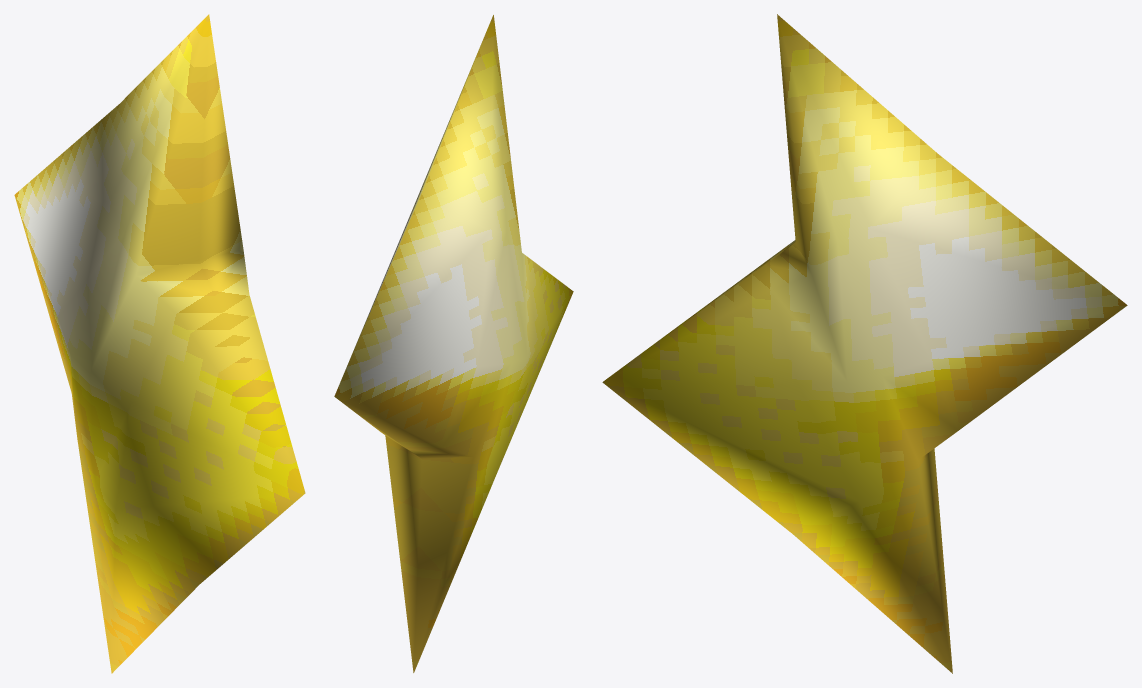
Rendered from ItmThunder.obj.
3 views of the same model, side by side, from view 1: azimuth 30°, elevation 25°; view 2: azimuth 150°, elevation 25°; view 3: azimuth 270°, elevation 25° (orthographic). The views are drawn at different scales.
Visible parts, largest first — view 1: polygon1; view 2: polygon1; view 3: polygon1.
Boxes of the visible parts, x1=… form: polygon1: x1=14, y1=14, x2=305, y2=673; polygon1: x1=334, y1=15, x2=573, y2=672; polygon1: x1=602, y1=14, x2=1127, y2=673.
Bounding box in the file's own units: 2.08 × 9.04 × 6.53.
1 material, 1 textured.
